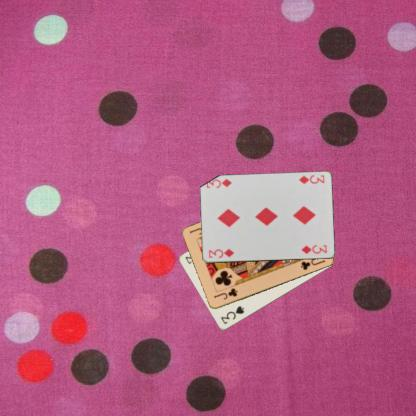3d: (296, 172, 326, 186), (206, 246, 235, 260)
3s: (218, 303, 246, 326)
Jc: (210, 285, 239, 301)
